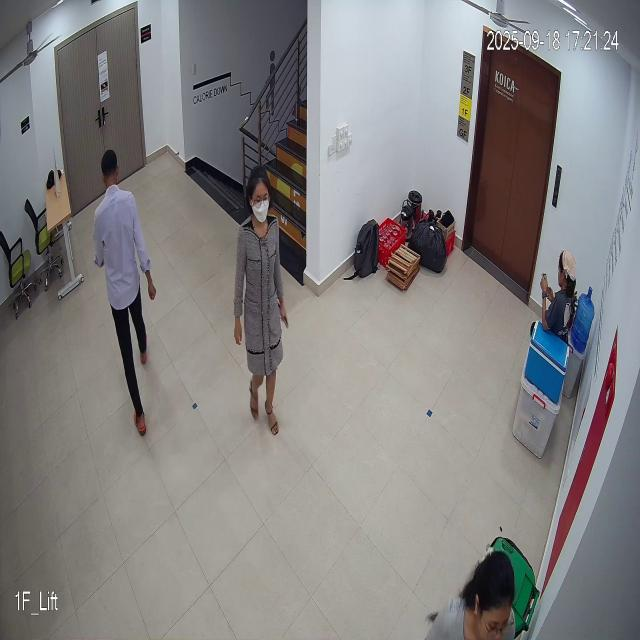face: (246, 165, 275, 225)
